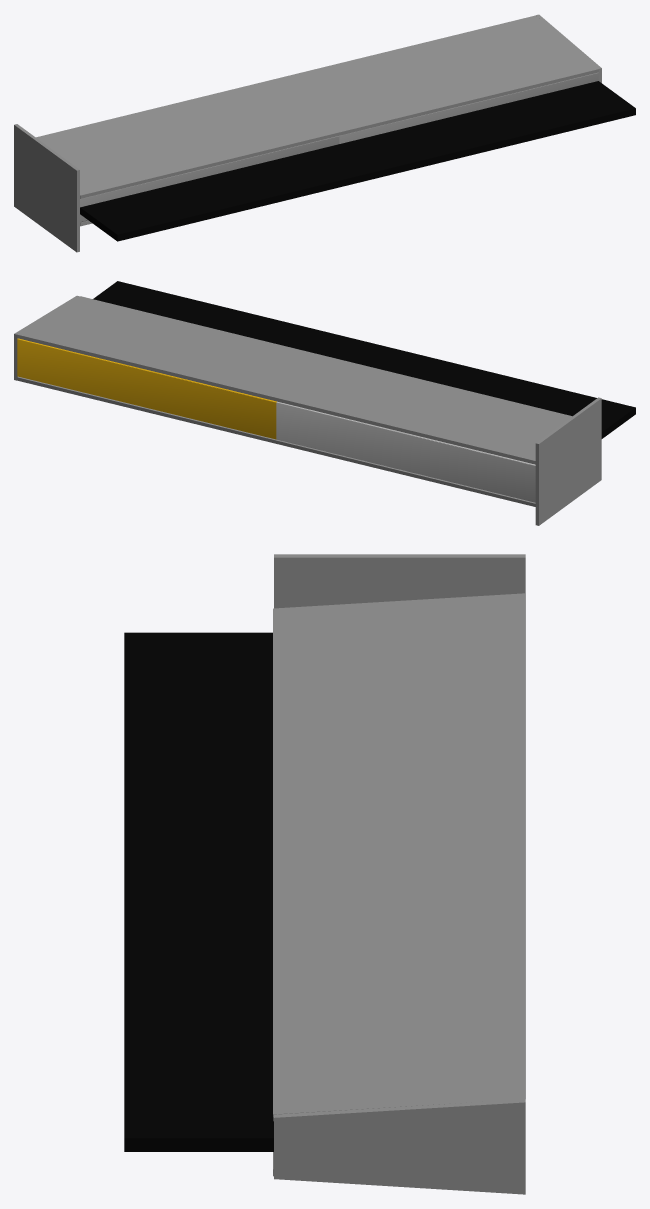
The model's file is 2026_ARC_3v3_small_barrier_left.gltf.
3 views of the same model, one above another, from view 1: azimuth 30°, elevation 25°; view 2: azimuth 150°, elevation 25°; view 3: azimuth 270°, elevation 25° (orthographic). The views are drawn at different scales.
Parts seen in each view (by area): view 1: Small Barrier, Surface 870, Surface 940, Interior Wall Mount, Surface 941, Surface 875; view 2: Surface 870, Surface 940, Small Barrier, Surface 882, Surface 942, Interior Wall Mount, Surface 943, Surface 885, Internal Wall; view 3: Small Barrier, Surface 870, Surface 940, Internal Wall, Interior Wall Mount.
Boxes of the visible parts, x1,y1,x2,y2 form: Small Barrier: [80, 81, 635, 241]; Surface 870: [277, 15, 598, 135]; Surface 940: [36, 78, 339, 198]; Interior Wall Mount: [14, 124, 79, 252]; Surface 941: [80, 136, 339, 222]; Surface 875: [339, 72, 598, 143]; Surface 870: [17, 296, 338, 401]; Surface 940: [276, 359, 572, 464]; Small Barrier: [93, 281, 635, 438]; Surface 882: [17, 338, 276, 439]; Surface 942: [276, 401, 535, 502]; Interior Wall Mount: [535, 397, 601, 525]; Surface 943: [276, 440, 535, 506]; Surface 885: [17, 376, 276, 443]; Internal Wall: [14, 295, 79, 380]; Small Barrier: [124, 632, 273, 1151]; Surface 870: [273, 846, 525, 1121]; Surface 940: [273, 593, 525, 861]; Internal Wall: [274, 1099, 525, 1194]; Interior Wall Mount: [274, 554, 525, 608].
Size of the model in its own units: 2.03 by 0.3016 by 0.67.
